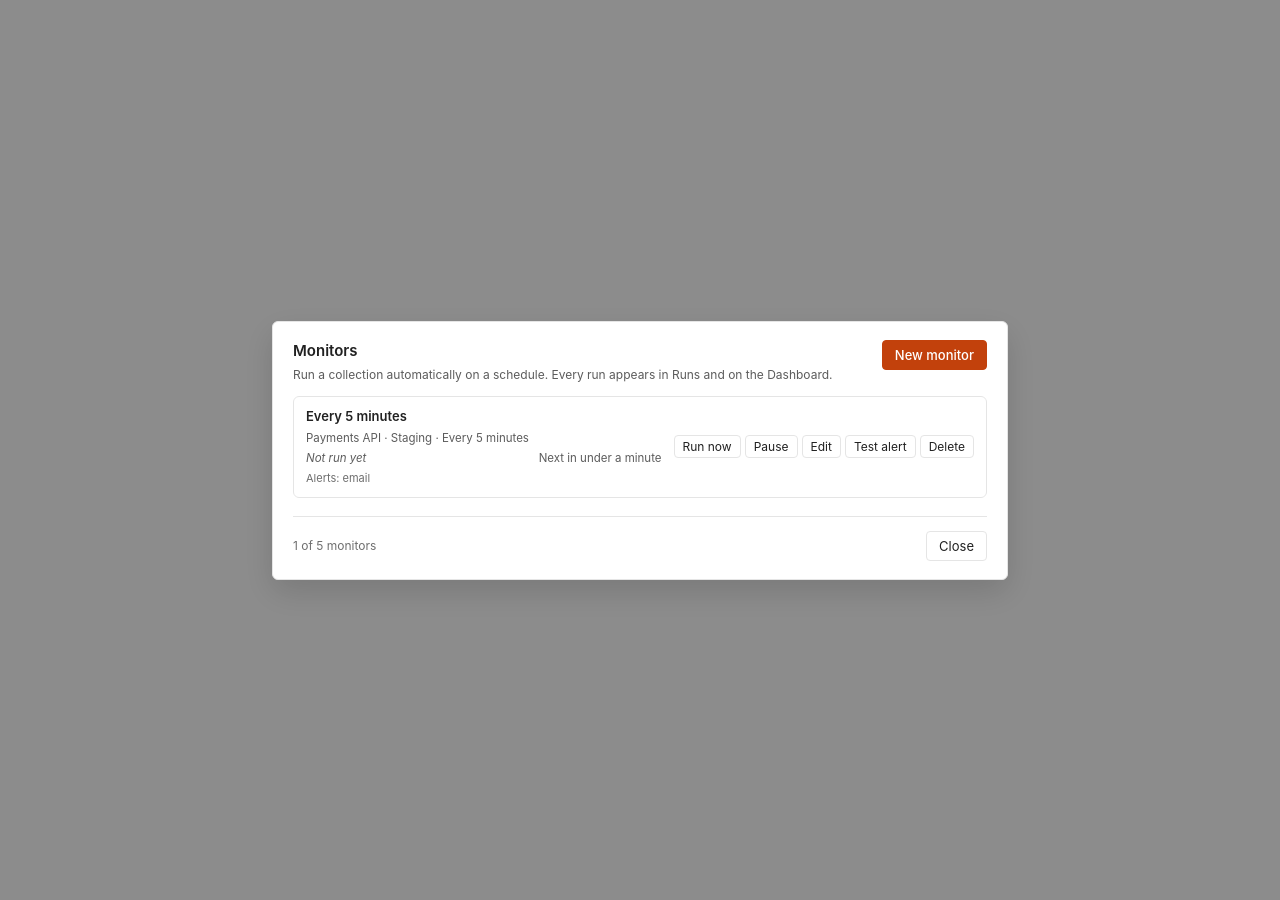
Test: MonitorsModal › editing keeps the monitor’s environment
The image size is (1280, 900).
Click the button "Edit": point(821, 447) [802,435,841,458]
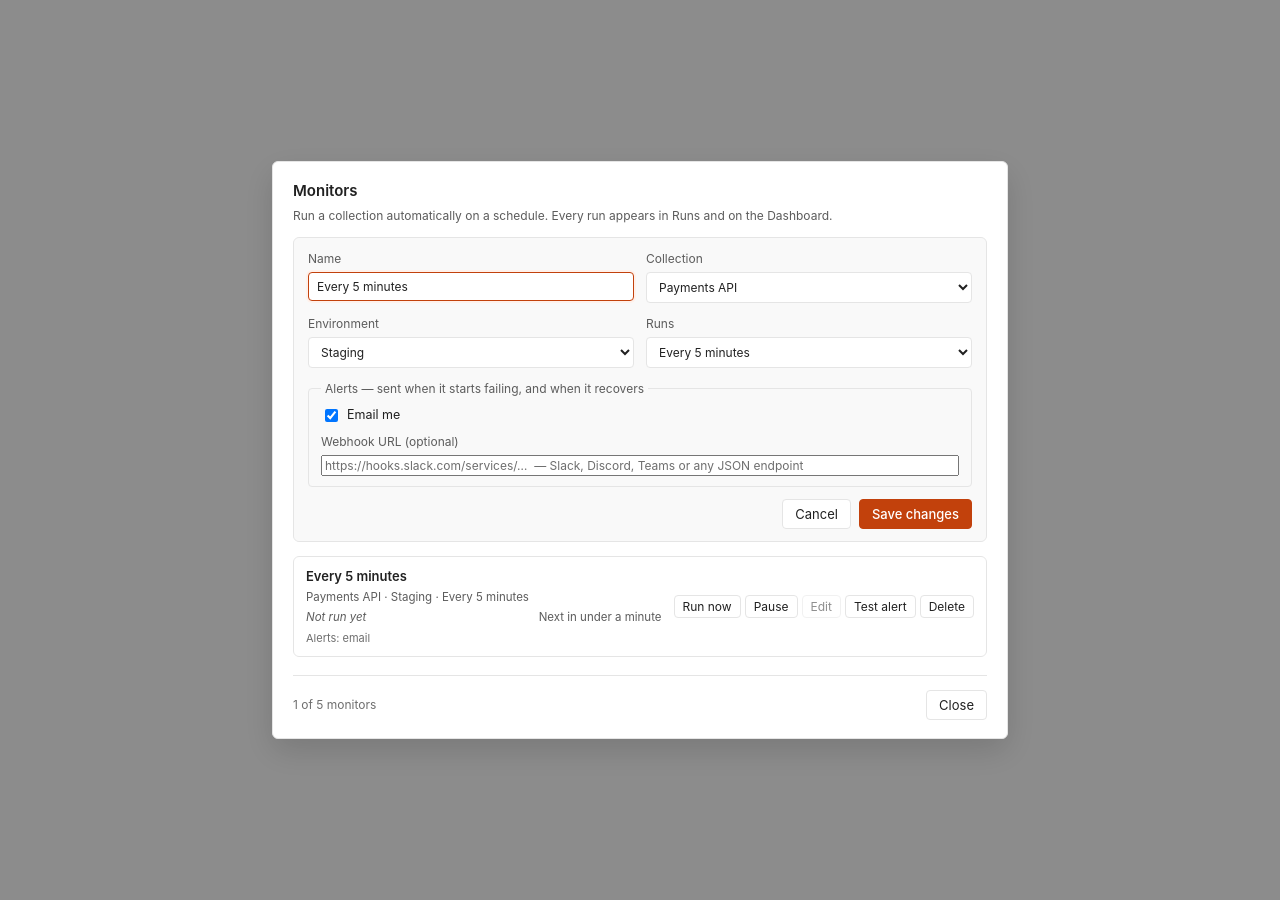
Result: the dropdown labelled "Environment" shows "Staging" at [308,336,634,368]
